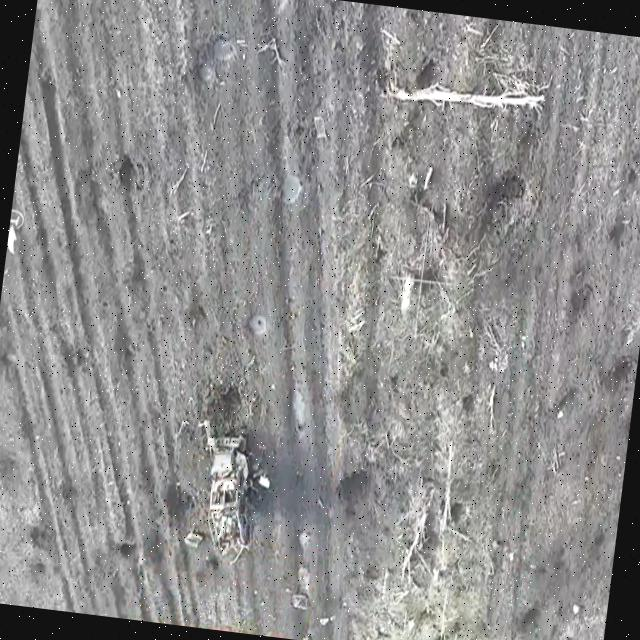Destroyed: (197, 434, 266, 567)
